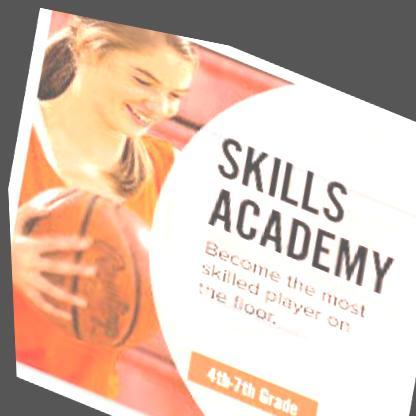basketball: (6, 161, 185, 370)
